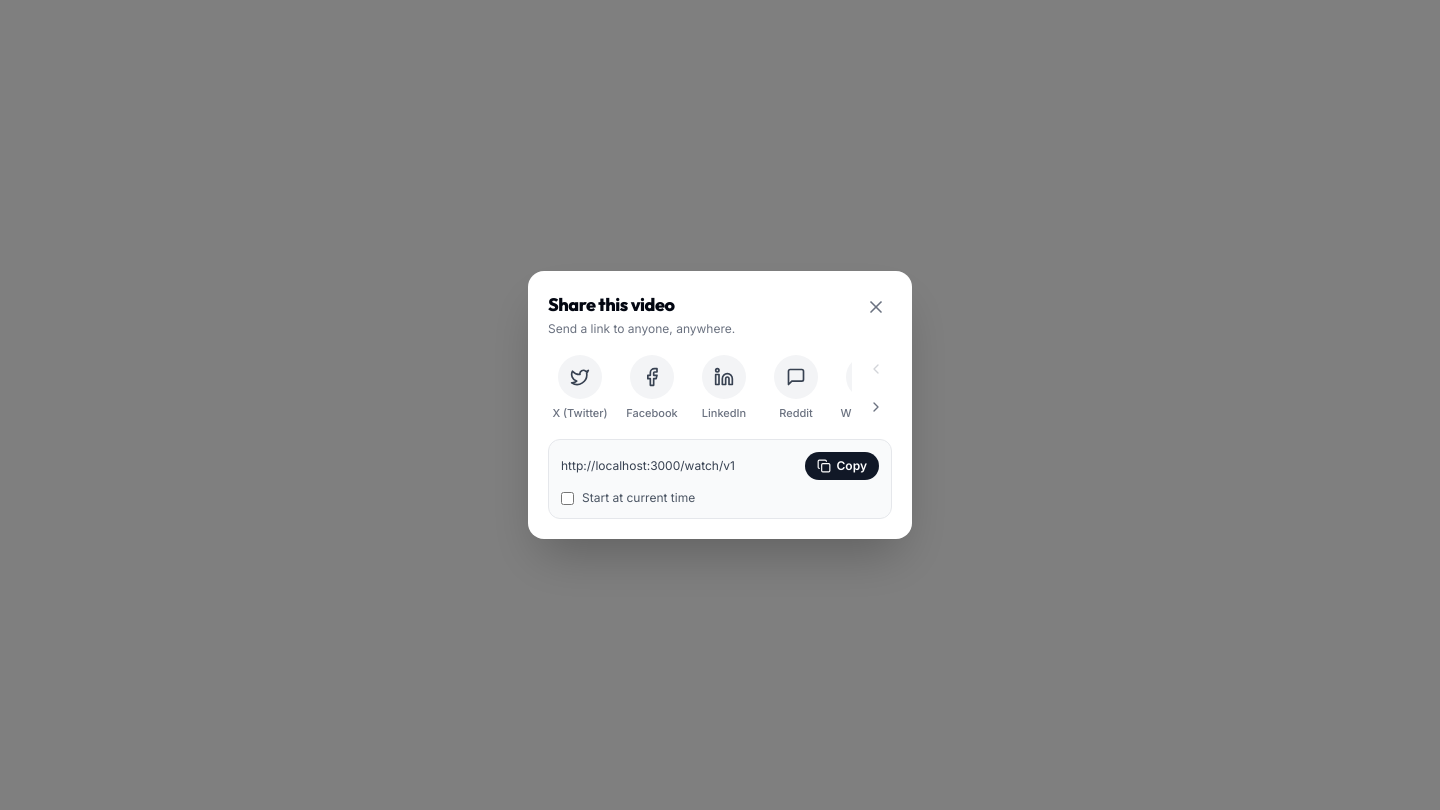
ShareDialog › reports a copy failure without recording a share
Click the button "Copy": (842, 466) [804,452,879,480]
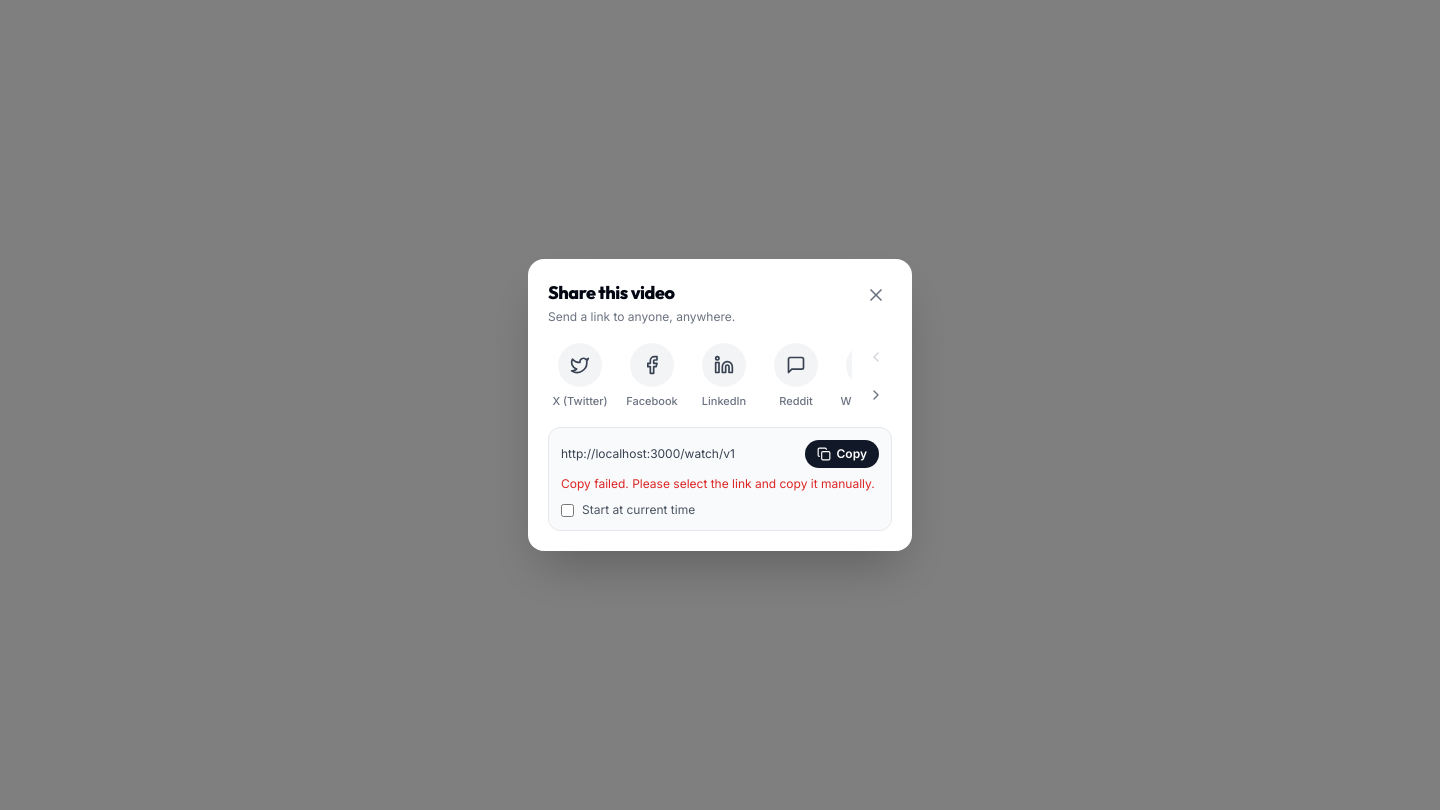
Check: the text "Copy failed. Please select the link and copy it manually." is shown, box [561,476,879,492]
